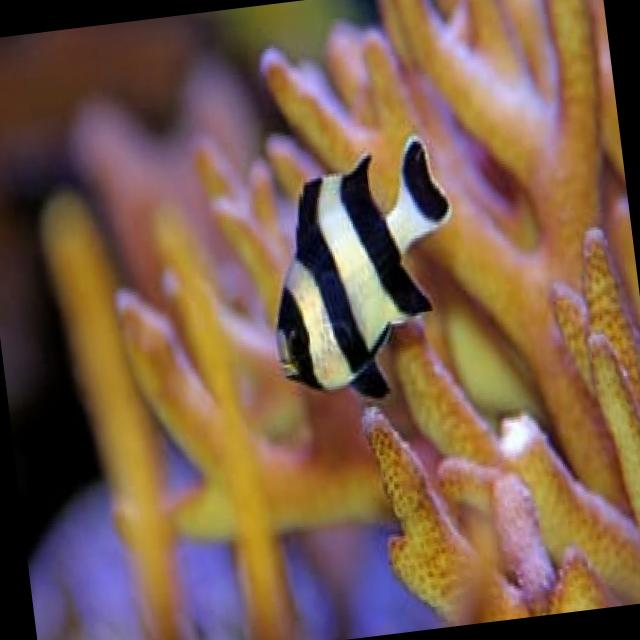ThreeStripedDamselfish: (248, 115, 476, 417)
